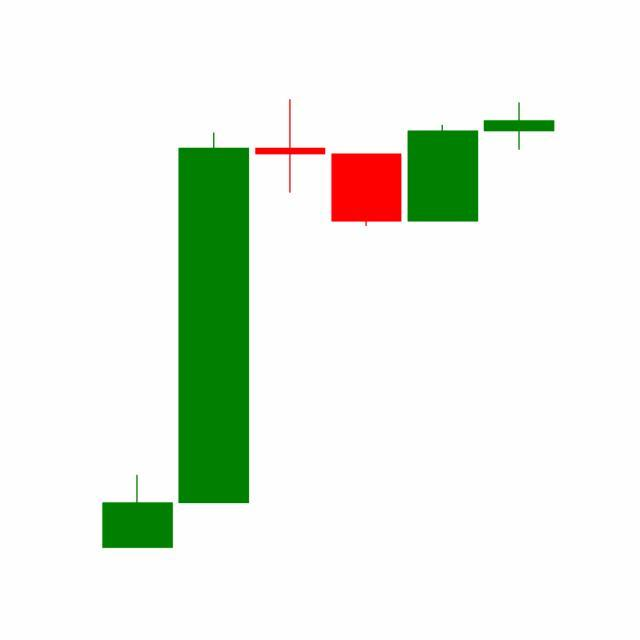Marubozu: (404, 124, 482, 223)
